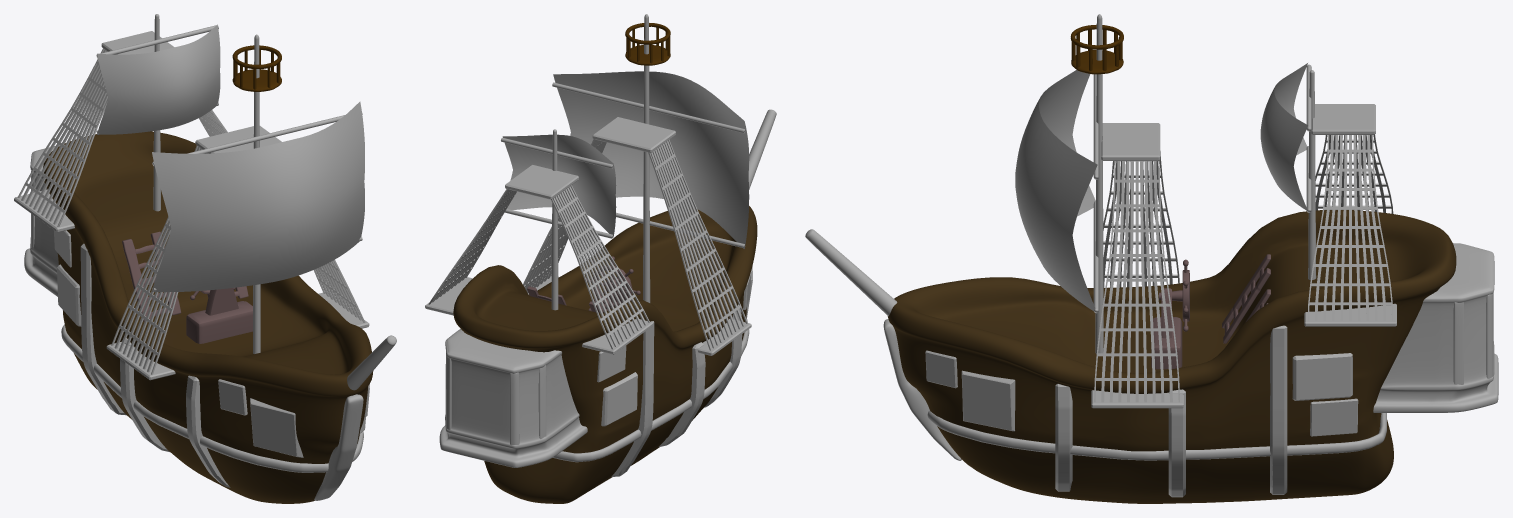
File: ShipTier3.fbx
The picture shows the model from 3 angles, left to right: view 1: azimuth 30°, elevation 25°; view 2: azimuth 150°, elevation 25°; view 3: azimuth 270°, elevation 25°; orthographic projection. The views are drawn at different scales.
Parts seen in each view (by area): view 1: pCylinder127, pPlane1, pCube46, pPlane2, pCube37, pCube25, pCylinder110, pCube33, pCube43, pCube24, pCylinder131, pCube19 (+10 smaller); view 2: pCylinder127, pCube46, pPlane1, pCube33, pPlane2, pCube37, pCube29, pCube25, pCylinder128, pCube36, pCylinder131, pCube44 (+7 smaller); view 3: pCylinder127, pCube46, pCube33, pPlane1, pCube37, pCube25, pPlane2, pCube40, pCube38, pCube29, pCylinder128, pCube36 (+8 smaller).
Part boxes in pixels (left/top/right/bottom): pCylinder127: left=43, top=131, right=373, bottom=503; pPlane1: left=152, top=101, right=364, bottom=292; pCube46: left=14, top=48, right=369, bottom=380; pPlane2: left=97, top=24, right=220, bottom=134; pCube37: left=80, top=243, right=230, bottom=487; pCube25: left=61, top=324, right=363, bottom=472; pCylinder110: left=186, top=288, right=252, bottom=343; pCube33: left=24, top=145, right=59, bottom=296; pCube43: left=250, top=398, right=303, bottom=457; pCube24: left=314, top=394, right=363, bottom=500; pCylinder131: left=232, top=45, right=281, bottom=91; pCube19: left=122, top=231, right=181, bottom=321; pCylinder127: left=453, top=206, right=757, bottom=503; pCube46: left=425, top=139, right=751, bottom=355; pPlane1: left=553, top=71, right=749, bottom=248; pCube33: left=439, top=328, right=587, bottom=467; pPlane2: left=502, top=134, right=616, bottom=237; pCube37: left=611, top=304, right=742, bottom=476; pCube29: left=592, top=117, right=675, bottom=152; pCube25: left=553, top=319, right=749, bottom=462; pCylinder128: left=643, top=14, right=650, bottom=302; pCube36: left=505, top=164, right=578, bottom=199; pCylinder131: left=625, top=23, right=670, bottom=65; pCube44: left=601, top=372, right=637, bottom=426; pCylinder127: left=887, top=210, right=1456, bottom=503; pCube46: left=1091, top=135, right=1396, bottom=408; pCube33: left=1373, top=243, right=1498, bottom=412; pPlane1: left=1015, top=70, right=1097, bottom=313; pCube37: left=1055, top=325, right=1287, bottom=497; pCube25: left=927, top=410, right=1386, bottom=460; pPlane2: left=1260, top=63, right=1307, bottom=210; pCube40: left=961, top=370, right=1015, bottom=431; pCube38: left=1292, top=353, right=1352, bottom=400; pCube29: left=1101, top=123, right=1160, bottom=160; pCylinder128: left=1095, top=14, right=1103, bottom=354; pCube36: left=1311, top=104, right=1375, bottom=134.
Size of the model in its own units: 4.6 by 8.97 by 11.73.
